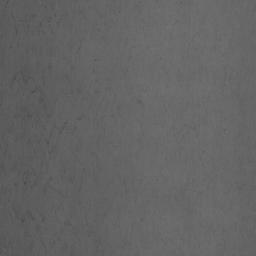Silk spot: (18, 168, 42, 192), (10, 67, 33, 88), (31, 86, 47, 110), (54, 120, 77, 136), (12, 208, 35, 223), (38, 132, 52, 147), (65, 86, 82, 97), (95, 239, 104, 256), (21, 107, 32, 120)
